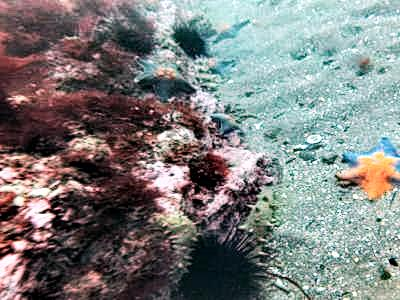urchin: (167, 234, 273, 295), (168, 19, 219, 60)
